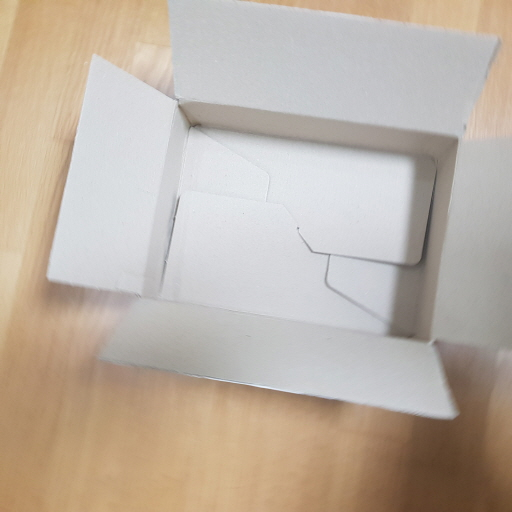Paper_0: (47, 4, 512, 424)
